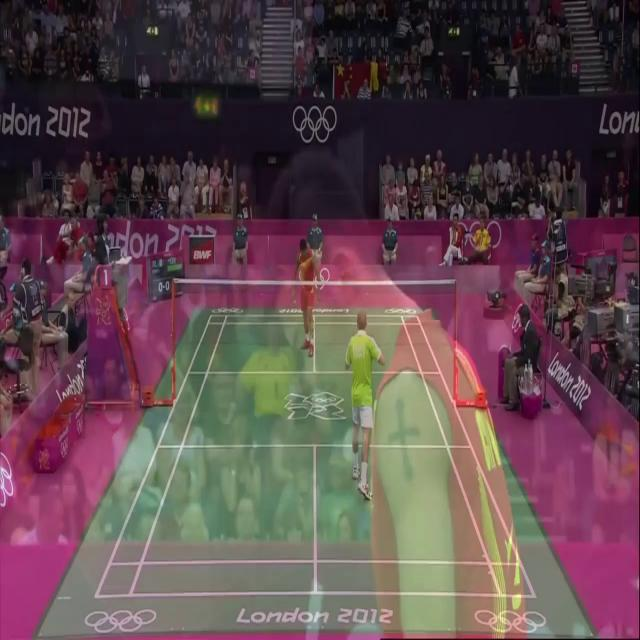Net: (168, 272, 458, 368)
Player1: (338, 304, 386, 506)
Player2: (286, 232, 324, 373)
